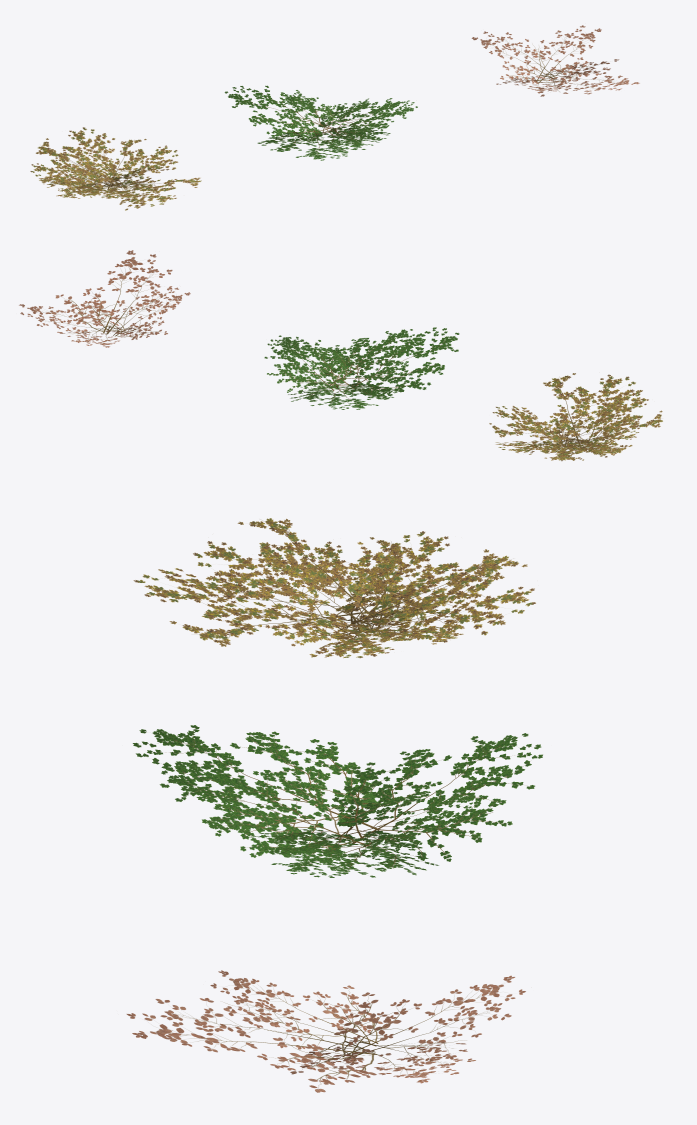
3 renders of one model, top to bottom at view 1: azimuth 30°, elevation 25°; view 2: azimuth 150°, elevation 25°; view 3: azimuth 270°, elevation 25°, orthographic. The views are drawn at different scales.
Visible parts, largest first — view 1: Ivy.001_0, Ivy.002_2, Ivy_1; view 2: Ivy.002_2, Ivy.001_0, Ivy_1; view 3: Ivy.002_2, Ivy.001_0, Ivy_1.
Part boxes in pixels (x1,y1,x2,y2): Ivy.001_0: [30, 127, 201, 210]; Ivy.002_2: [224, 85, 417, 160]; Ivy_1: [471, 25, 639, 96]; Ivy.002_2: [264, 327, 459, 409]; Ivy.001_0: [489, 373, 662, 460]; Ivy_1: [19, 250, 190, 347]; Ivy.002_2: [132, 725, 542, 877]; Ivy.001_0: [133, 518, 535, 658]; Ivy_1: [126, 970, 525, 1092].
Size of the model in its own units: 8.8 by 0.4572 by 3.29.
Materials: 3 (3 with a texture image).
